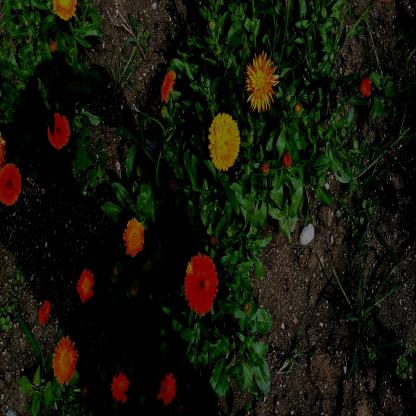marigold: (245, 51, 279, 115), (184, 252, 218, 316), (207, 111, 240, 171), (52, 333, 78, 387), (0, 162, 22, 206), (47, 109, 70, 150), (122, 217, 145, 257), (76, 267, 94, 303), (110, 372, 130, 404), (157, 372, 176, 405), (160, 69, 176, 103)
